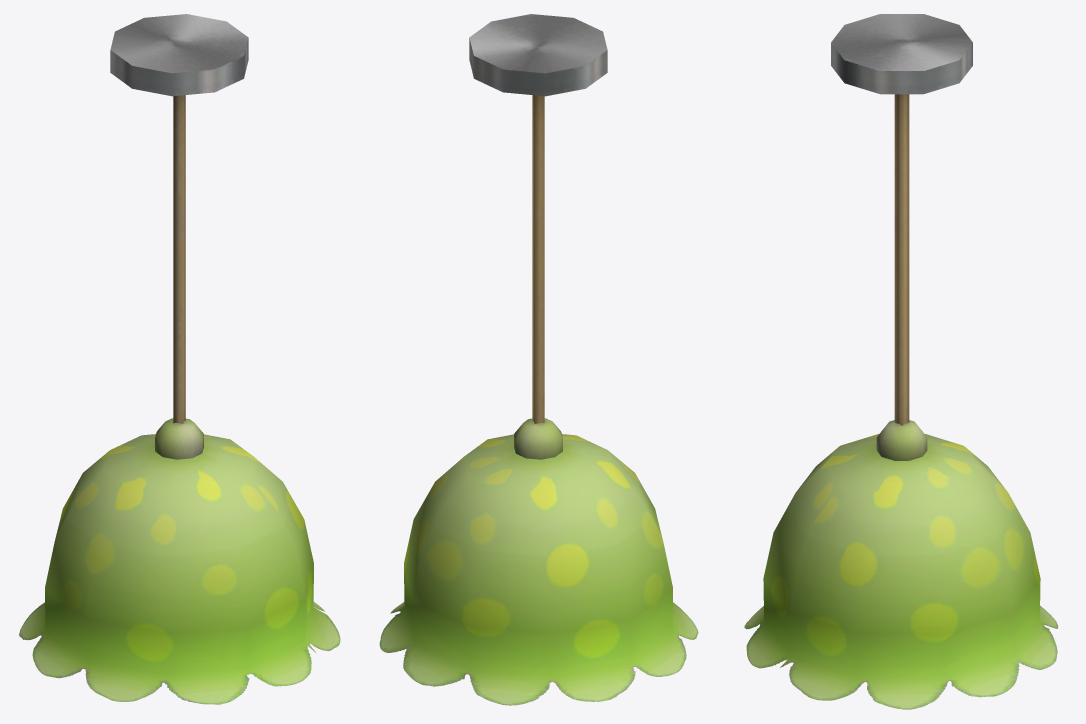
Rendered from furni_0200133_02.FBX.
3 views of the same model, side by side, from view 1: azimuth 30°, elevation 25°; view 2: azimuth 150°, elevation 25°; view 3: azimuth 270°, elevation 25° (orthographic).
Visible parts, largest first — view 1: furni_0200133_02; view 2: furni_0200133_02; view 3: furni_0200133_02.
Part boxes in pixels (x1,y1,x2,y2): furni_0200133_02: (19, 14, 340, 704); furni_0200133_02: (379, 14, 698, 705); furni_0200133_02: (744, 14, 1058, 709).
Size of the model in its own units: 68.22 by 140 by 71.73.
